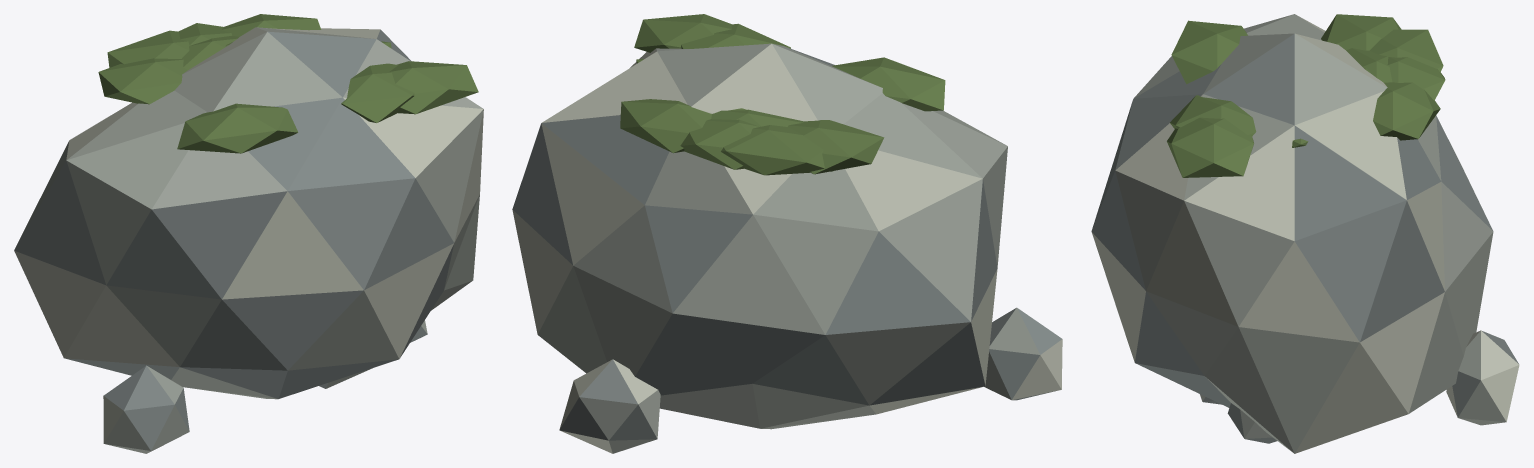
File: mossy_rock_a.glb
3 views of the same model, side by side, from view 1: azimuth 30°, elevation 25°; view 2: azimuth 150°, elevation 25°; view 3: azimuth 270°, elevation 25° (orthographic). The views are drawn at different scales.
Parts seen in each view (by area): view 1: mossy_rock_a; view 2: mossy_rock_a; view 3: mossy_rock_a.
Boxes of the visible parts, box(x1,y1,x2,y2) form: mossy_rock_a: box(14, 14, 483, 453); mossy_rock_a: box(512, 14, 1062, 453); mossy_rock_a: box(1091, 14, 1519, 453).
Bounding box in the file's own units: 1.47 × 1.18 × 1.18.
